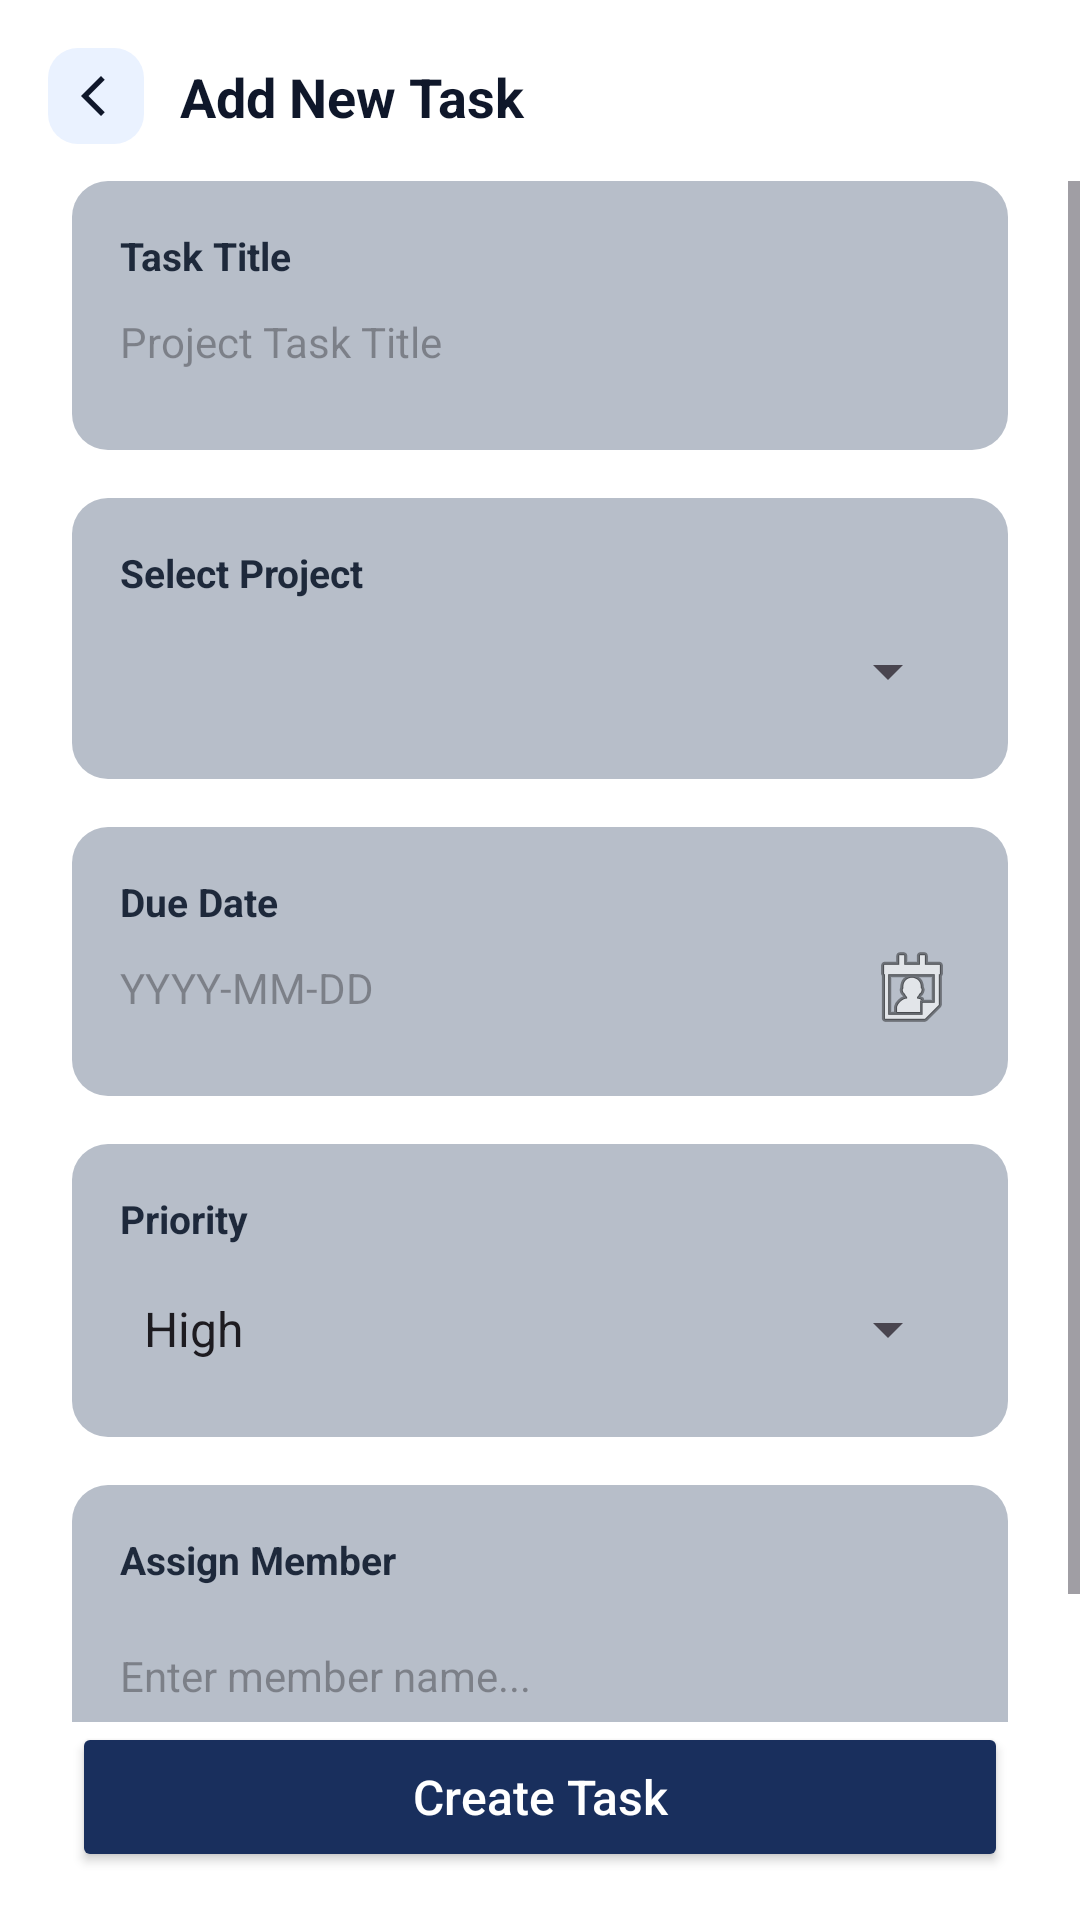

Screen size 1080 x 1920. Icon name, then its center in pixels as (x,y):
back: (96,96)
